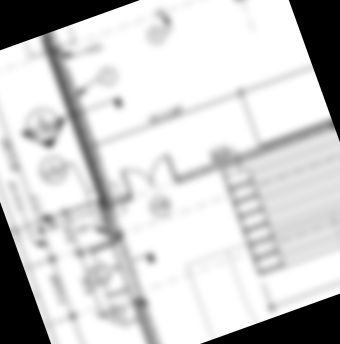double door: (118, 150, 182, 198), (88, 238, 136, 299)
wall: (45, 31, 119, 210), (170, 120, 335, 188), (128, 297, 161, 344), (135, 296, 167, 344), (106, 190, 136, 209)
